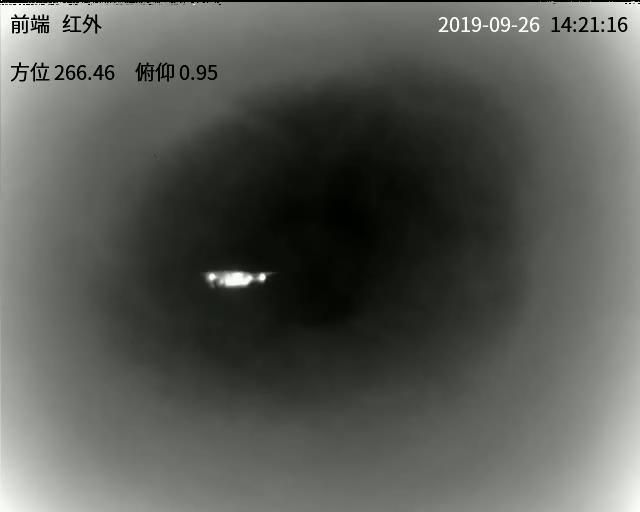uav: (203, 265, 273, 290)
